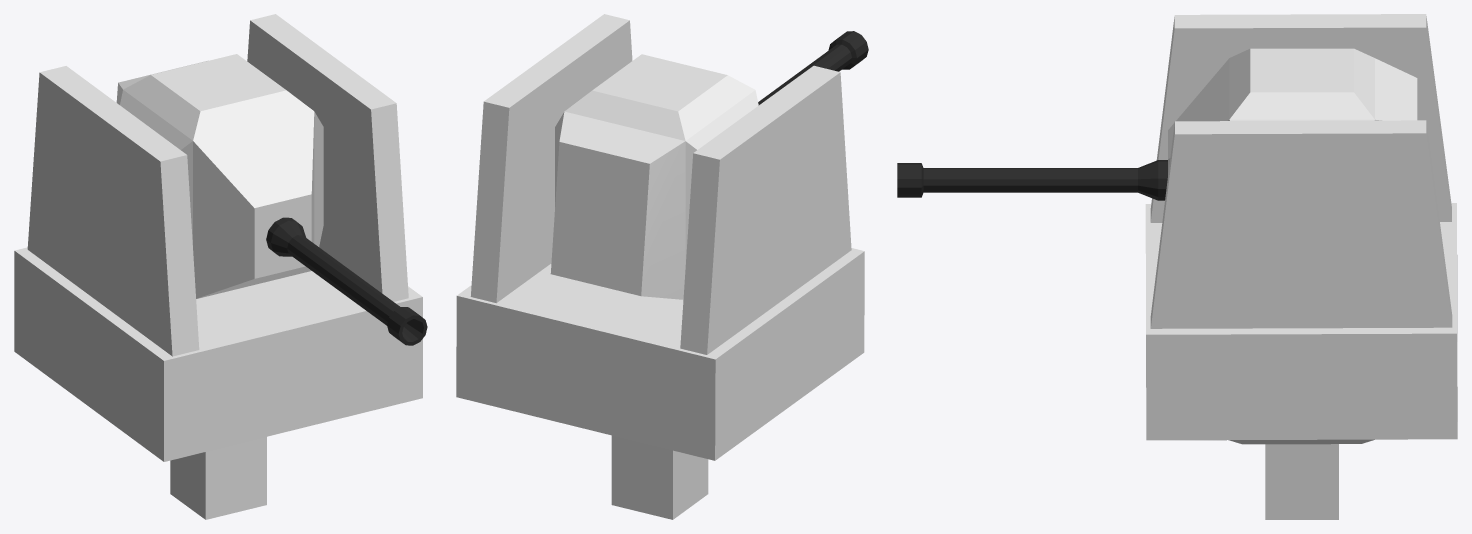
File: Turret_06.fbx
The picture shows the model from 3 angles, left to right: view 1: azimuth 30°, elevation 25°; view 2: azimuth 150°, elevation 25°; view 3: azimuth 270°, elevation 25°; orthographic projection. The views are drawn at different scales.
Visible parts, largest first — view 1: Turret_06_Body, Turret_06_GunBody, Turret_06_LowerBody, Turret_06_MainGun; view 2: Turret_06_Body, Turret_06_GunBody, Turret_06_LowerBody, Turret_06_MainGun; view 3: Turret_06_Body, Turret_06_GunBody, Turret_06_MainGun, Turret_06_LowerBody.
Boxes of the visible parts, left/top/right/bottom form: Turret_06_Body: left=14, top=14, right=422, bottom=461; Turret_06_GunBody: left=116, top=54, right=323, bottom=298; Turret_06_LowerBody: left=170, top=437, right=266, bottom=519; Turret_06_MainGun: left=266, top=217, right=427, bottom=345; Turret_06_Body: left=456, top=14, right=864, bottom=460; Turret_06_GunBody: left=550, top=54, right=758, bottom=299; Turret_06_LowerBody: left=611, top=435, right=708, bottom=519; Turret_06_MainGun: left=758, top=31, right=868, bottom=105; Turret_06_Body: left=1145, top=14, right=1457, bottom=444; Turret_06_GunBody: left=1168, top=48, right=1422, bottom=174; Turret_06_MainGun: left=897, top=160, right=1167, bottom=200; Turret_06_LowerBody: left=1265, top=444, right=1338, bottom=519.
Bounding box in the file's own units: 10.02 × 15.39 × 18.
